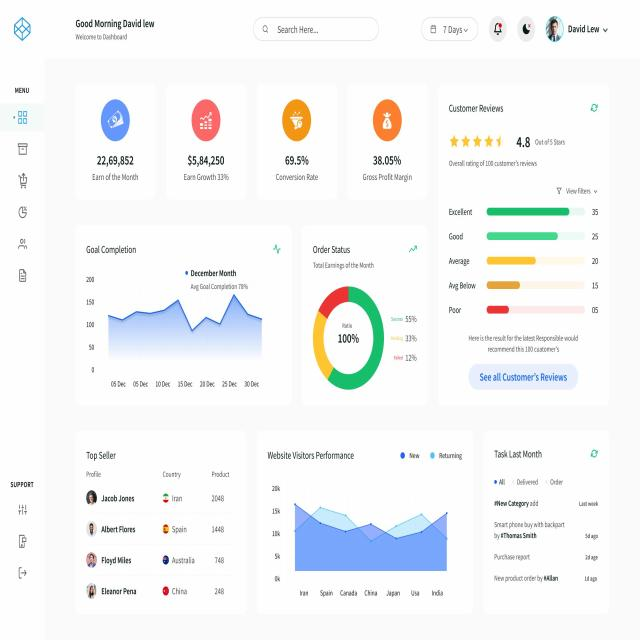button: (469, 363, 577, 389)
input: (253, 17, 378, 41)
select: (422, 17, 479, 42), (568, 18, 611, 41)
